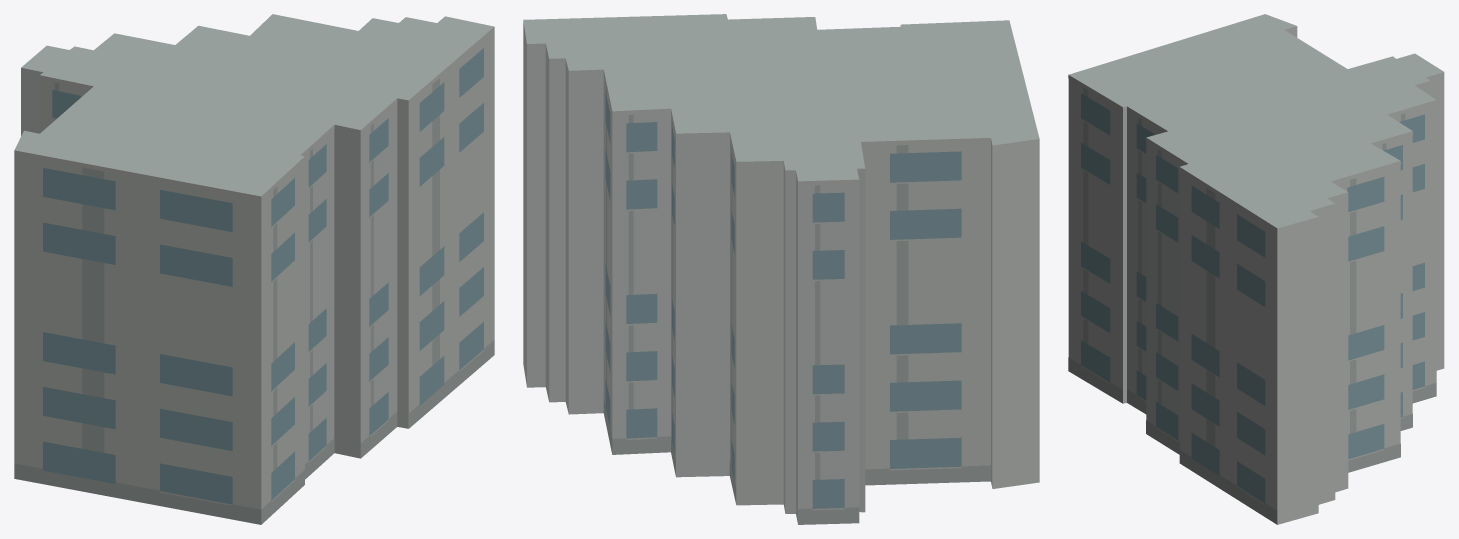
File: survey-upis-32833336.glb
The picture shows the model from 3 angles, left to right: view 1: azimuth 30°, elevation 25°; view 2: azimuth 150°, elevation 25°; view 3: azimuth 270°, elevation 25°; orthographic projection. The views are drawn at different scales.
Parts seen in each view (by area): view 1: survey-upis-32833336.tmp; view 2: survey-upis-32833336.tmp; view 3: survey-upis-32833336.tmp.
Boxes of the visible parts, box(x1,y1,x2,y2) form: survey-upis-32833336.tmp: box(14, 14, 494, 524); survey-upis-32833336.tmp: box(523, 14, 1039, 524); survey-upis-32833336.tmp: box(1068, 14, 1444, 524).
Bounding box in the file's own units: 28.24 × 18.2 × 20.93.
